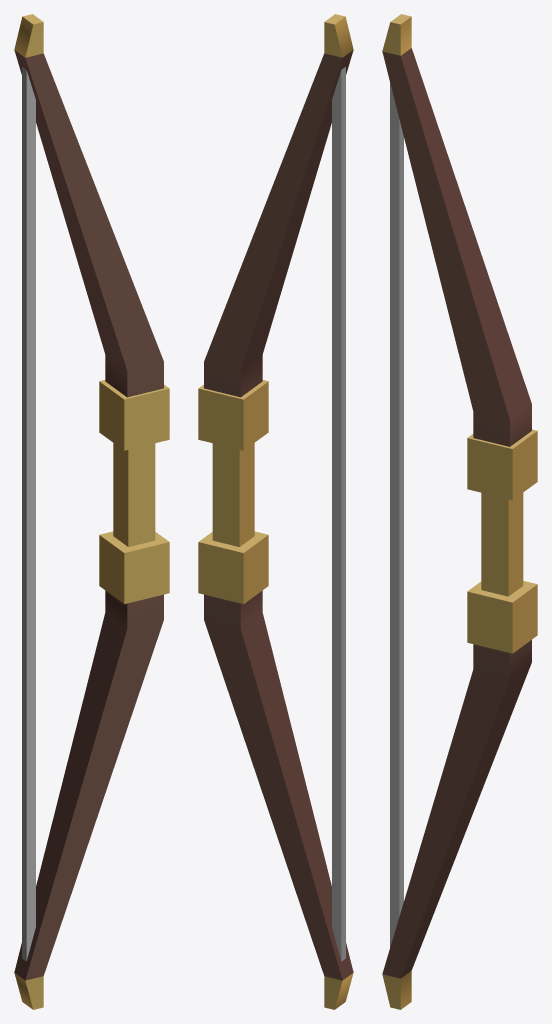
The model's file is arc.fbx.
3 views of the same model, side by side, from view 1: azimuth 30°, elevation 25°; view 2: azimuth 150°, elevation 25°; view 3: azimuth 330°, elevation 25° (orthographic).
Visible parts, largest first — view 1: arc; view 2: arc; view 3: arc.
Part boxes in pixels (left/top/right/bottom): arc: left=14, top=14, right=169, bottom=1009; arc: left=198, top=14, right=353, bottom=1009; arc: left=382, top=14, right=537, bottom=1009.
Bounding box in the file's own units: 0.4111 × 2.82 × 0.13.
